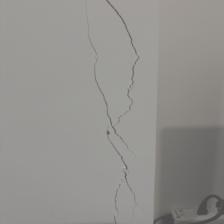High: (81, 1, 151, 224)
